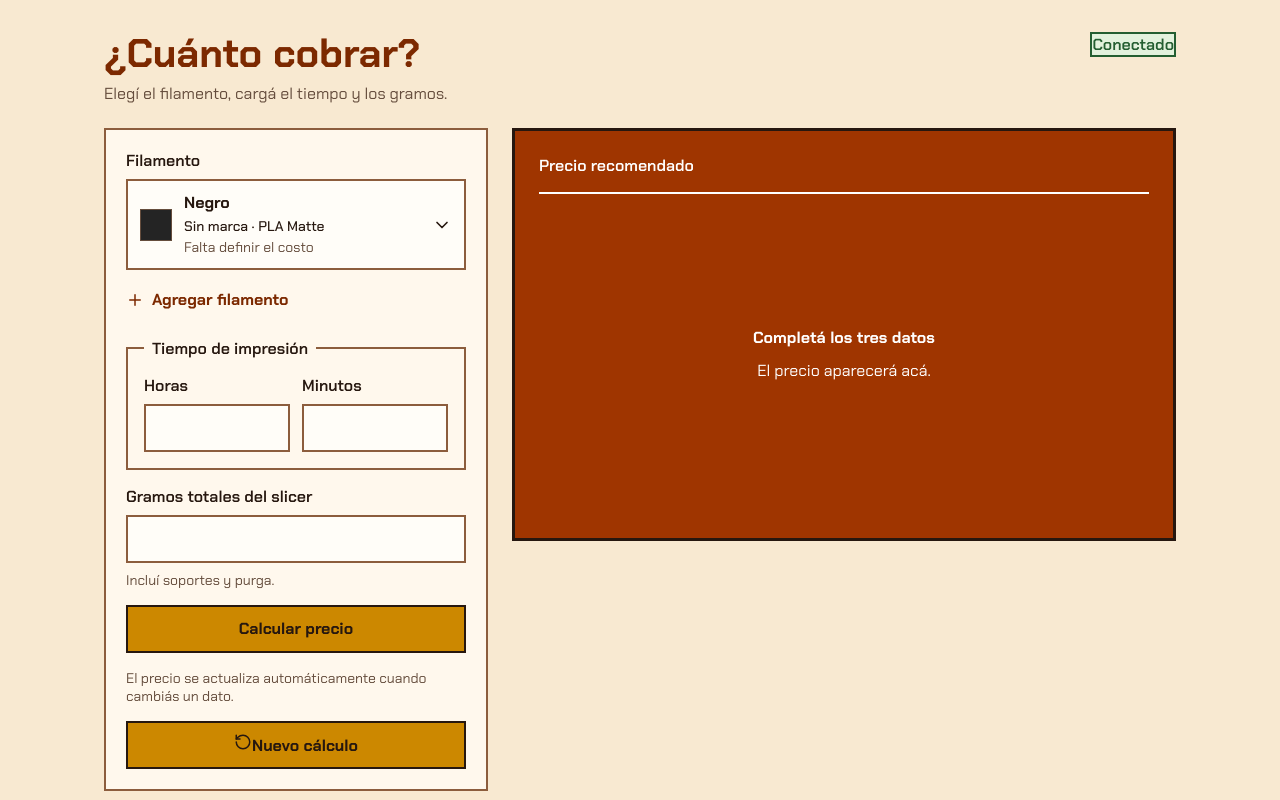
it: estados de la cotización rápida › marca como incompleta una referencia con breakdown y no permite compartir
Expected: the button with aria-label "Filamento" shows "PLA Matte", [126,179,466,270]
Type "5" into the number field named "Horas de impresión". click: (217, 428)
box: [144,404,290,452]
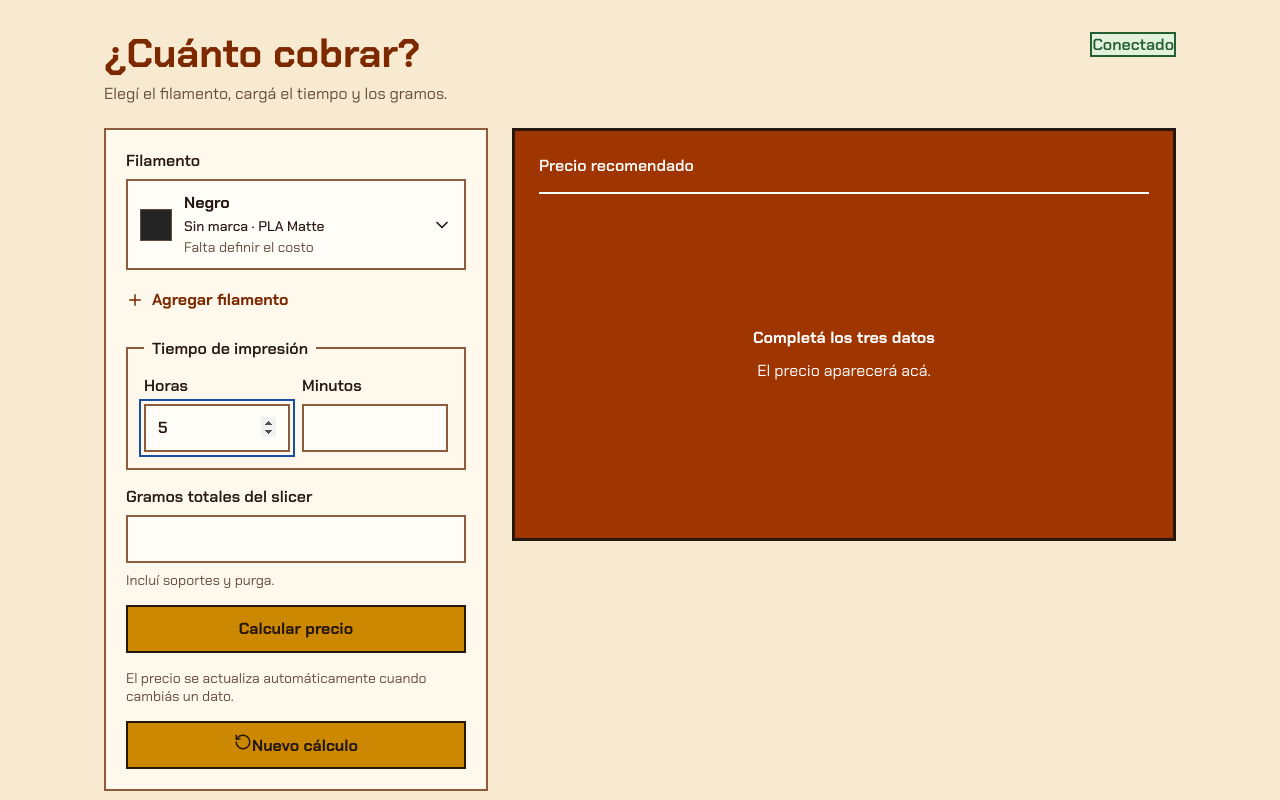
Type "24" into the number field named "Minutos de impresión". click: (375, 428)
box: [302,404,448,452]
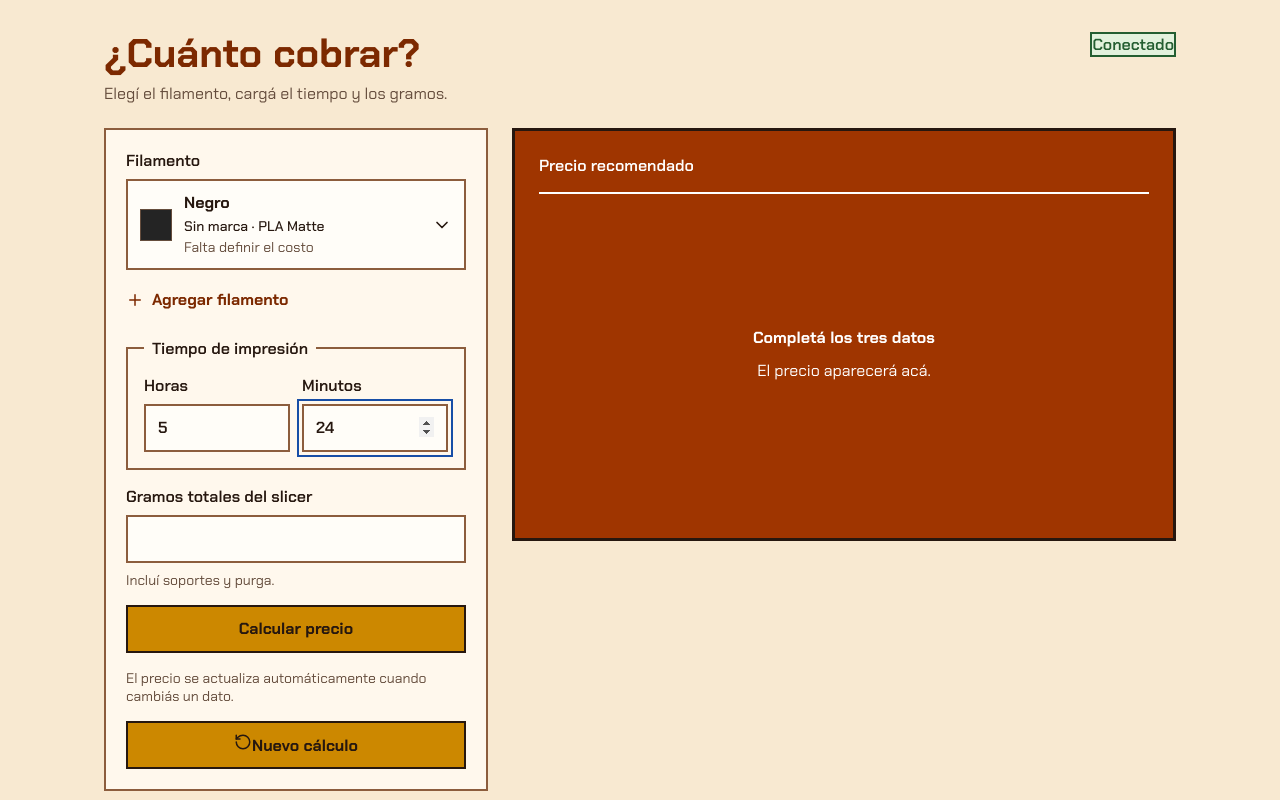
Type "142" into the number field labelled "Gramos totales del slicer". click: (296, 539)
box: [126,515,466,563]
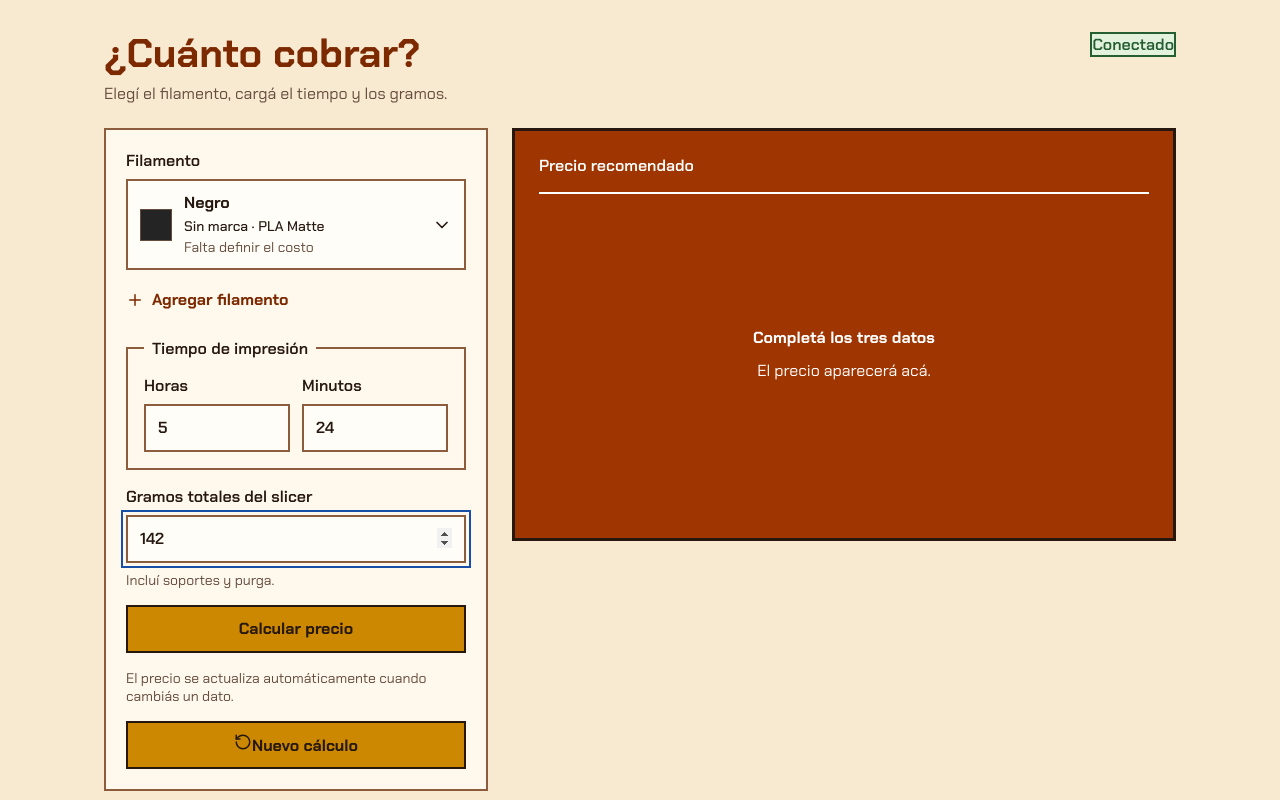
Click the button "Calcular precio". click: (296, 629)
box: [126,605,466,653]
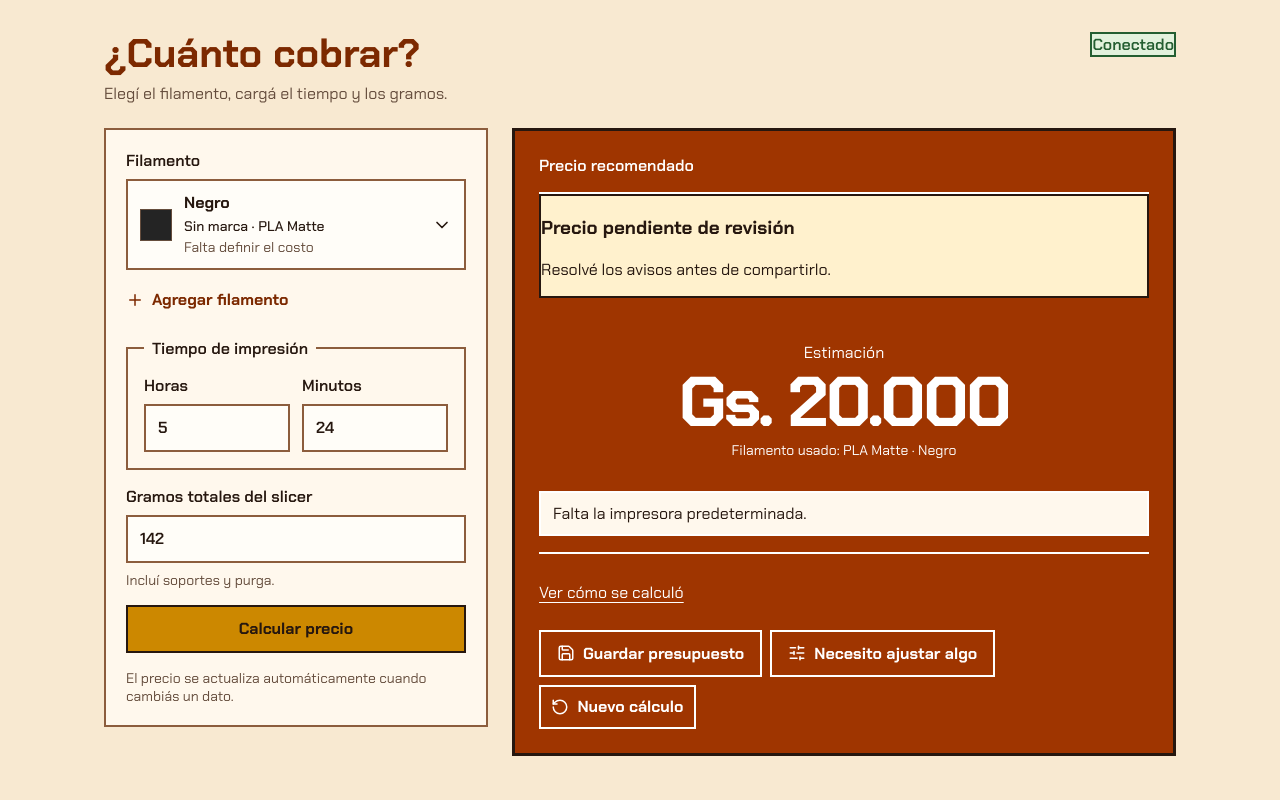
Result: the heading "Precio pendiente de revisión" is shown at [541,215,794,240]
Result: the text "Resolvé los avisos antes de compartirlo." is shown at [541,259,831,280]
Result: the button "Guardar presupuesto" is shown at [539,630,762,677]
